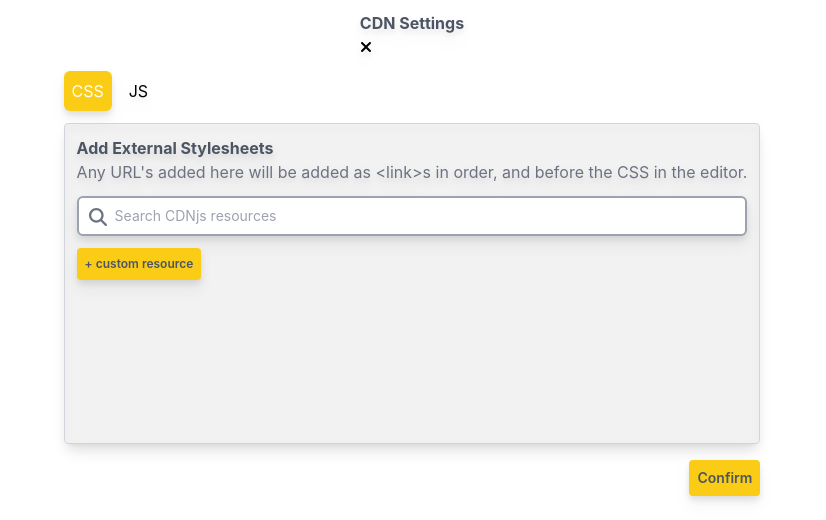
Test: SettingPopup component › change setting tab
The image size is (826, 520).
Step 1. Click the list item "JS" → (138, 90), box x1=129 y1=80 x2=148 y2=100
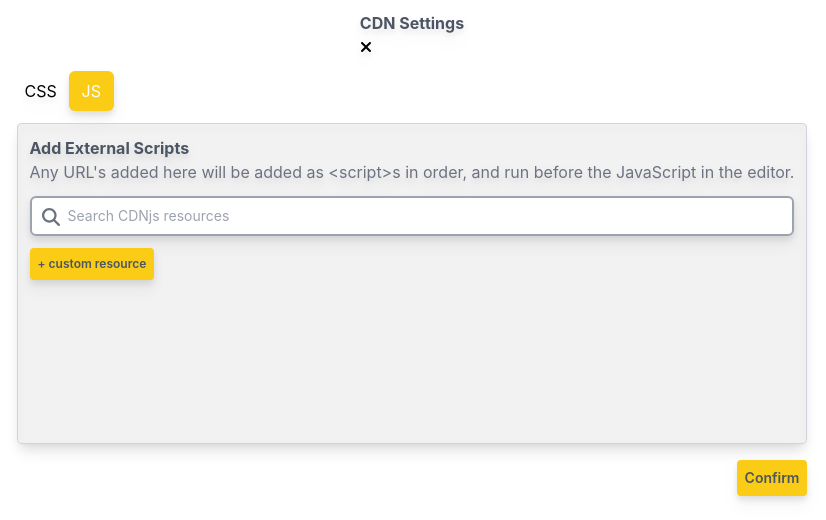
Expected: the heading "Add External Scripts" is shown, x1=30 y1=138 x2=189 y2=158
Expected: the text "any url's added here will be added as <script>s in order, and run before the javascript in the editor." is shown, x1=30 y1=162 x2=794 y2=182
